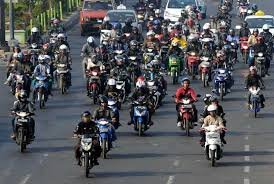motor: (198, 121, 224, 166), (75, 134, 99, 178), (128, 97, 153, 138), (10, 111, 35, 152), (175, 95, 197, 135), (243, 83, 266, 118), (32, 74, 51, 109), (211, 65, 231, 98)
